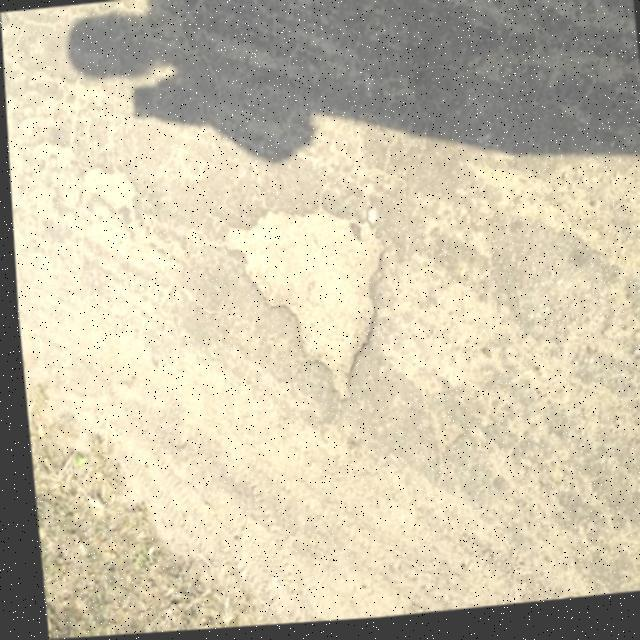pothole: (216, 197, 395, 416)
